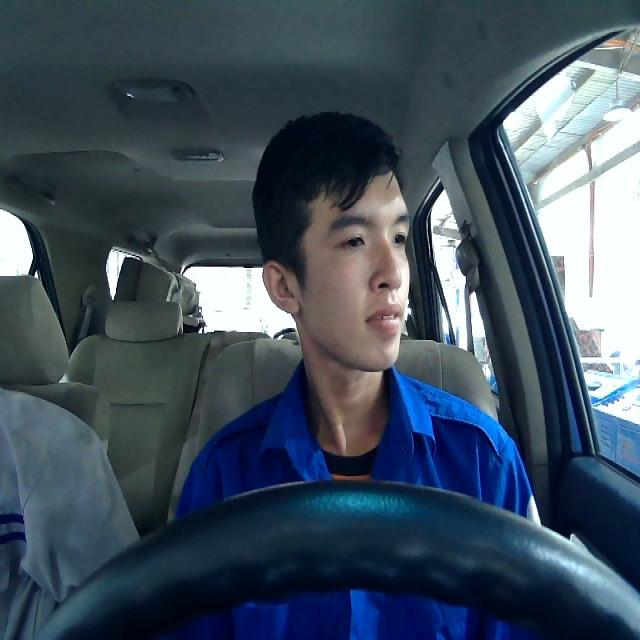seeing_right: (261, 165, 412, 372)
